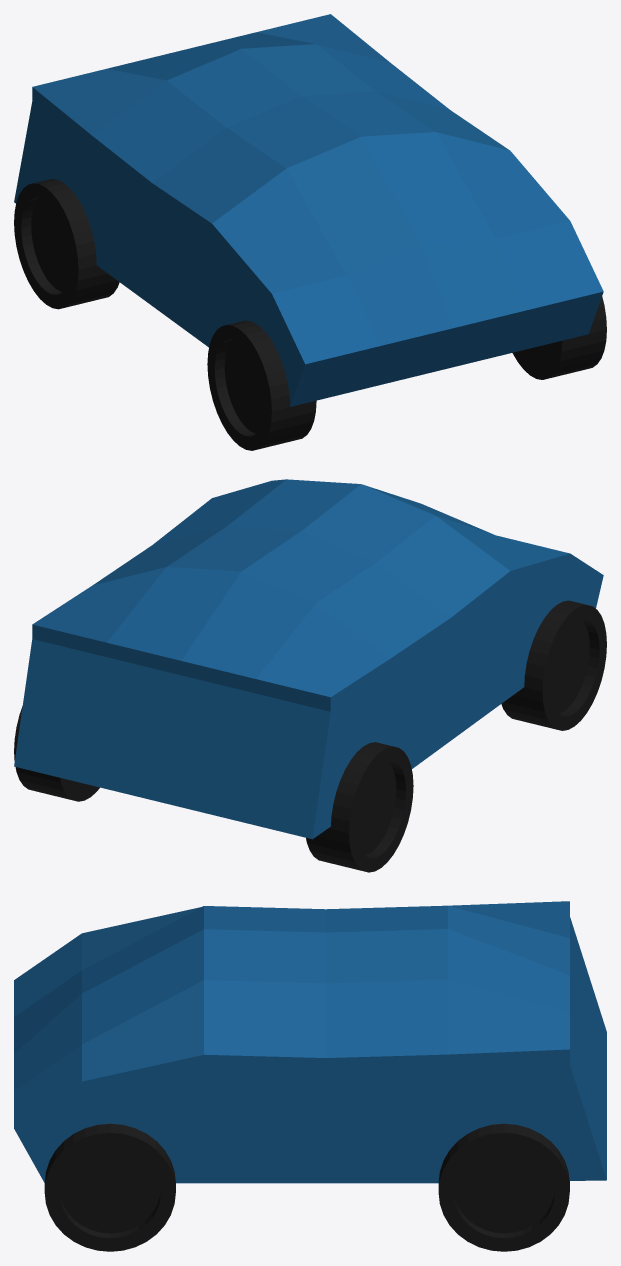
File: Car.fbx
3 renders of one model, top to bottom at view 1: azimuth 30°, elevation 25°; view 2: azimuth 150°, elevation 25°; view 3: azimuth 270°, elevation 25°, orthographic.
Parts seen in each view (by area): view 1: Car; view 2: Car; view 3: Car.
Part boxes in pixels (x1=…): Car: x1=14, y1=14, x2=606, y2=450; Car: x1=14, y1=479, x2=606, y2=872; Car: x1=14, y1=901, x2=606, y2=1251.
Bounding box in the file's own units: 150 × 101 × 226.
